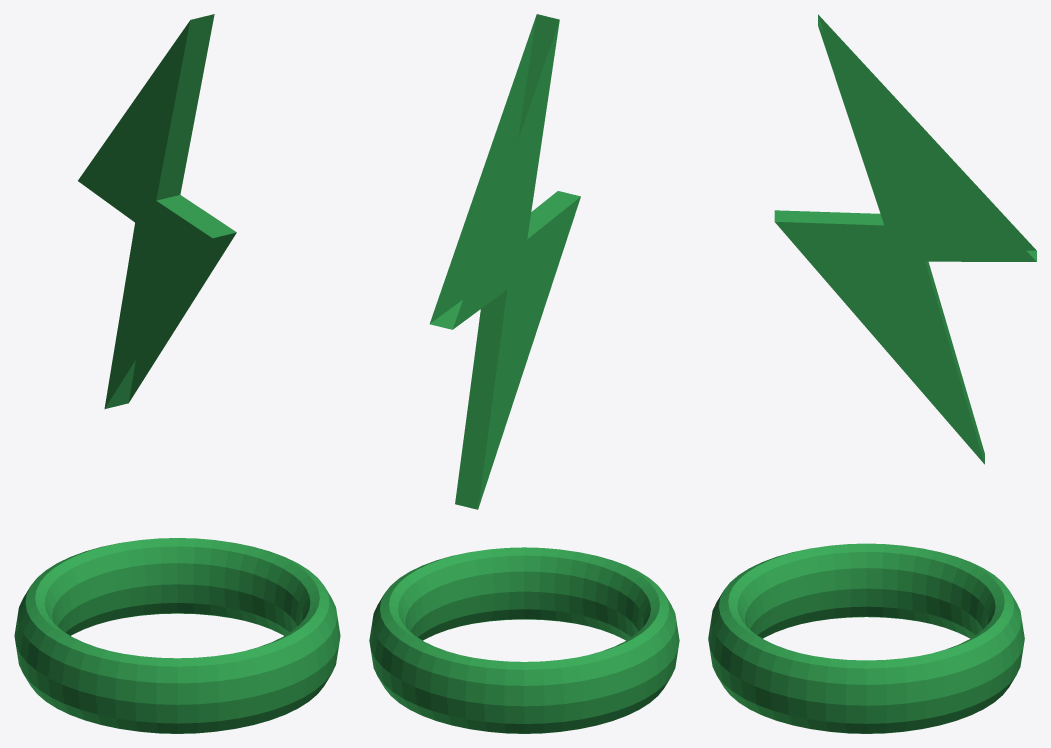
File: greenbolt4.glb
3 renders of one model, left to right at view 1: azimuth 30°, elevation 25°; view 2: azimuth 150°, elevation 25°; view 3: azimuth 270°, elevation 25°, orthographic. The views are drawn at different scales.
Parts seen in each view (by area): view 1: Torus, Cube.001; view 2: Torus, Cube.001; view 3: Torus, Cube.001.
Part boxes in pixels (left/top/right/bottom): Torus: left=14, top=538, right=340, bottom=733; Cube.001: left=78, top=14, right=236, bottom=409; Torus: left=369, top=547, right=679, bottom=733; Cube.001: left=429, top=14, right=580, bottom=509; Torus: left=708, top=543, right=1024, bottom=733; Cube.001: left=774, top=14, right=1036, bottom=464.
Size of the model in its own units: 2.29 by 5.23 by 2.37.
